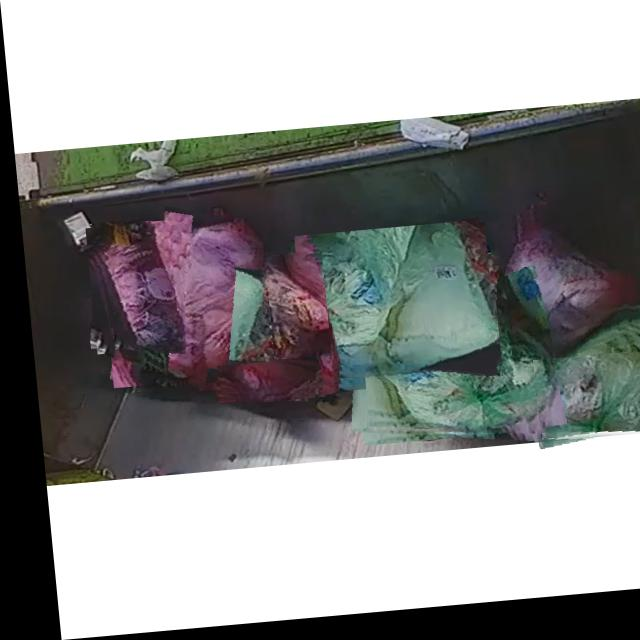general_trashbag: (350, 262, 535, 443), (298, 231, 490, 387), (529, 326, 640, 451), (109, 346, 166, 392)
other_trashbag: (144, 223, 259, 387), (498, 225, 623, 367), (240, 264, 322, 406), (90, 224, 173, 351), (208, 366, 301, 402)
